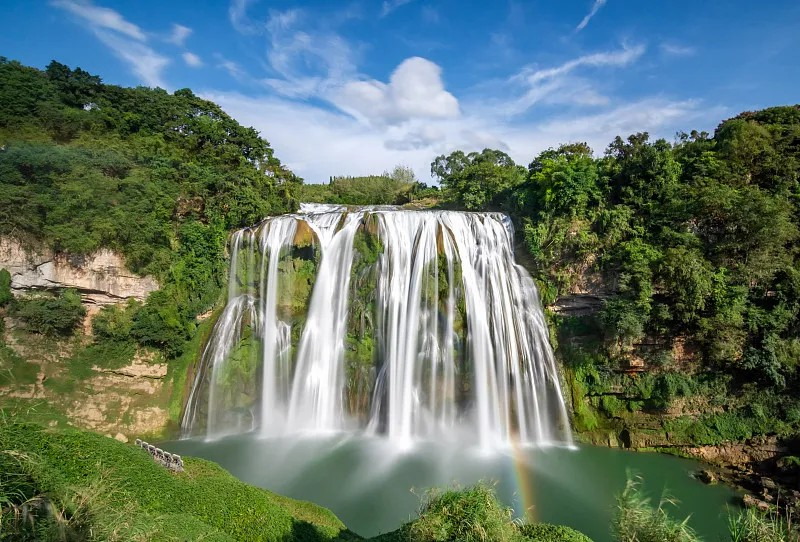Huangguoshu: (185, 204, 576, 448)
